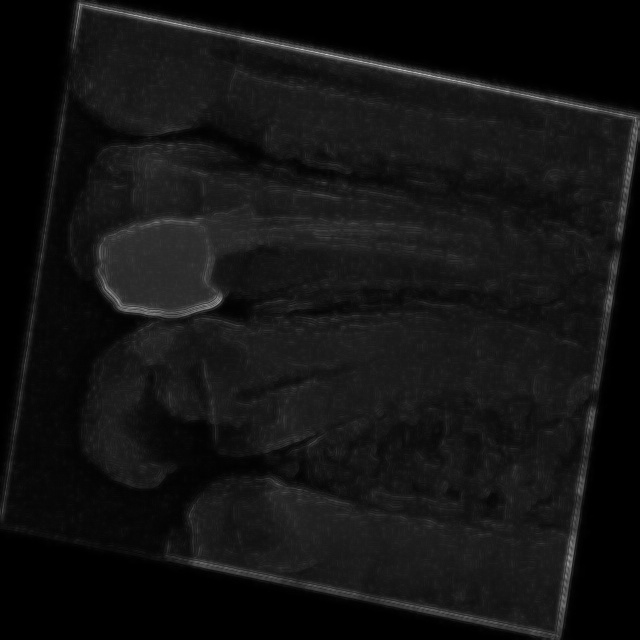Class 1- complete endodontic treatment: (42, 73, 610, 412)
cavity: (57, 218, 589, 608)
